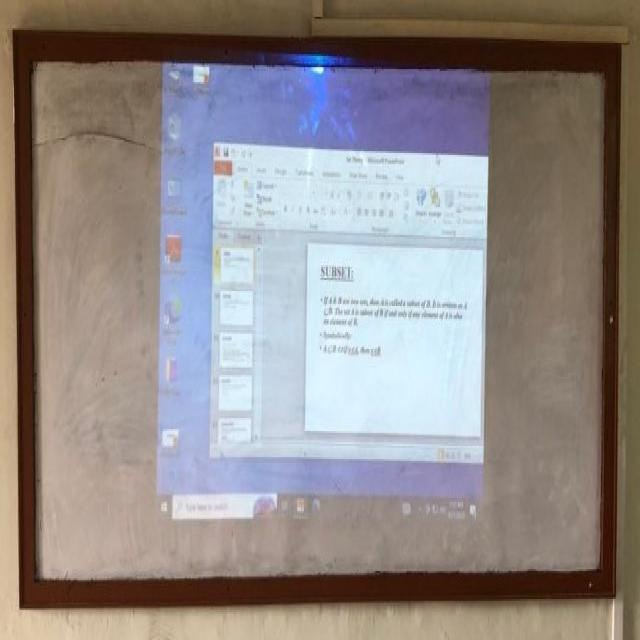Slide: (156, 50, 489, 529)
White-board: (22, 43, 616, 594)
